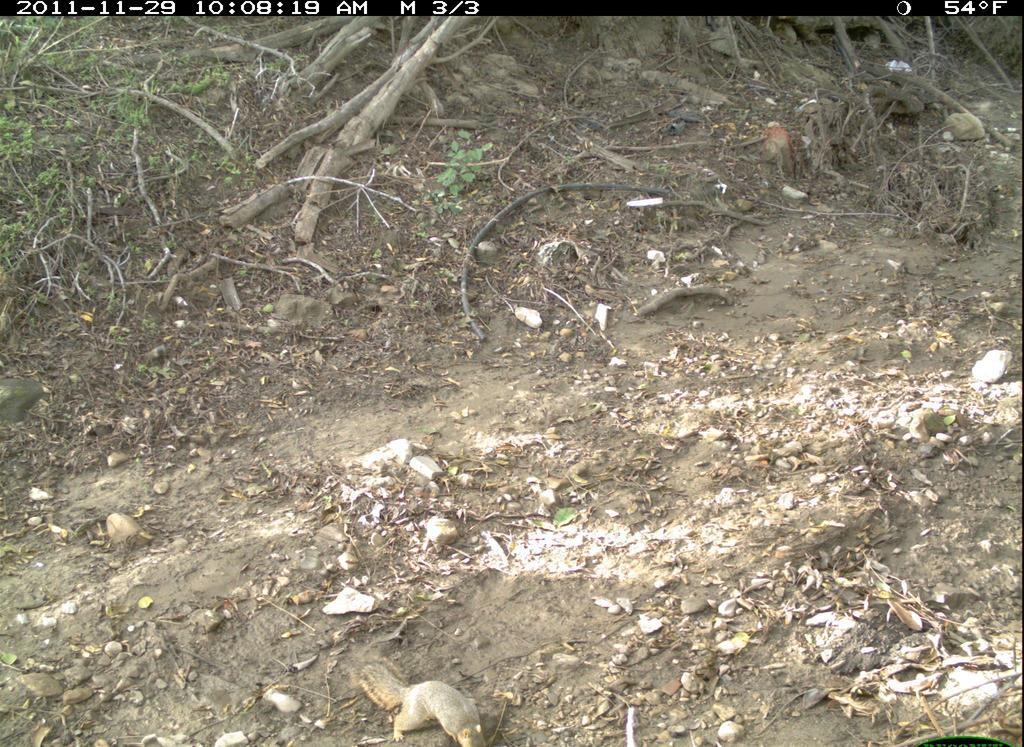squirrel: (358, 666, 498, 745)
